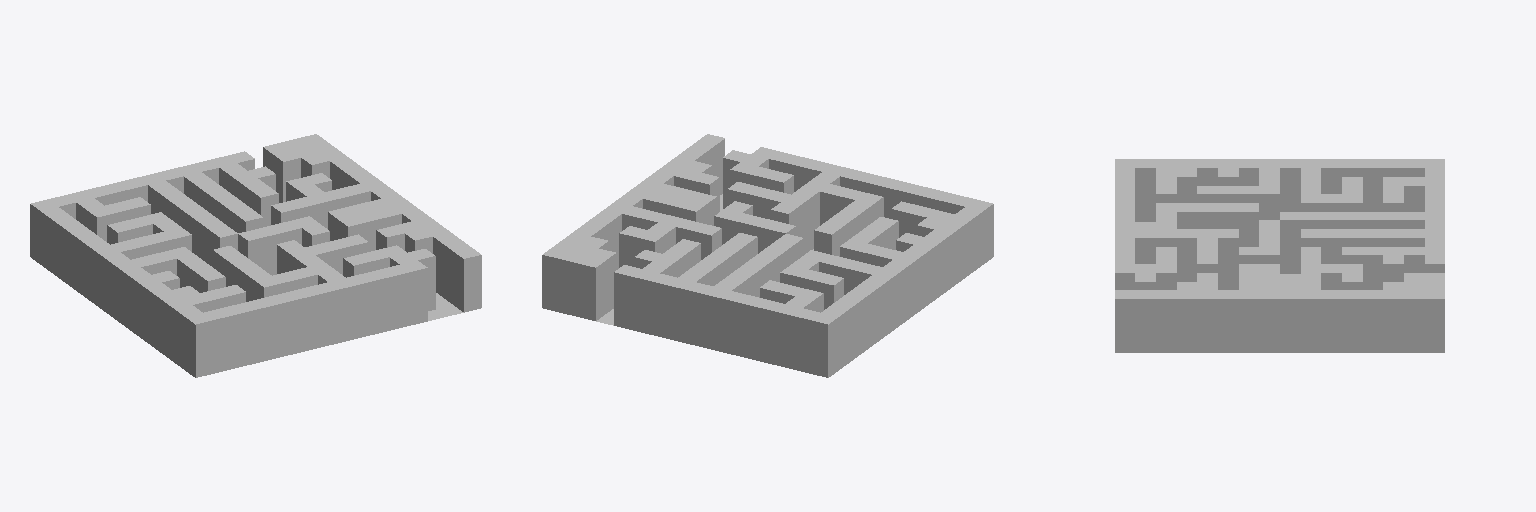
Rendered from maze.obj.
The picture shows the model from 3 angles: view 1: azimuth 30°, elevation 25°; view 2: azimuth 150°, elevation 25°; view 3: azimuth 270°, elevation 25°; orthographic projection.
Visible parts, largest first — view 1: Plane; view 2: Plane; view 3: Plane.
Boxes of the visible parts, box(x1,y1,x2,y2) form: Plane: box(30, 134, 481, 377); Plane: box(542, 134, 993, 377); Plane: box(1115, 159, 1444, 352).
Size of the model in its own units: 2 by 0.3579 by 2.